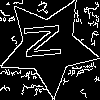N: (23, 21, 70, 61)
